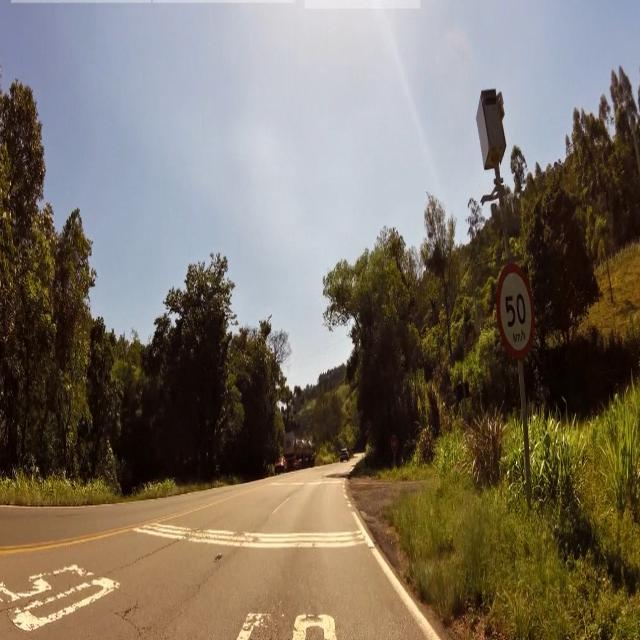R-19: (496, 262, 536, 361)
